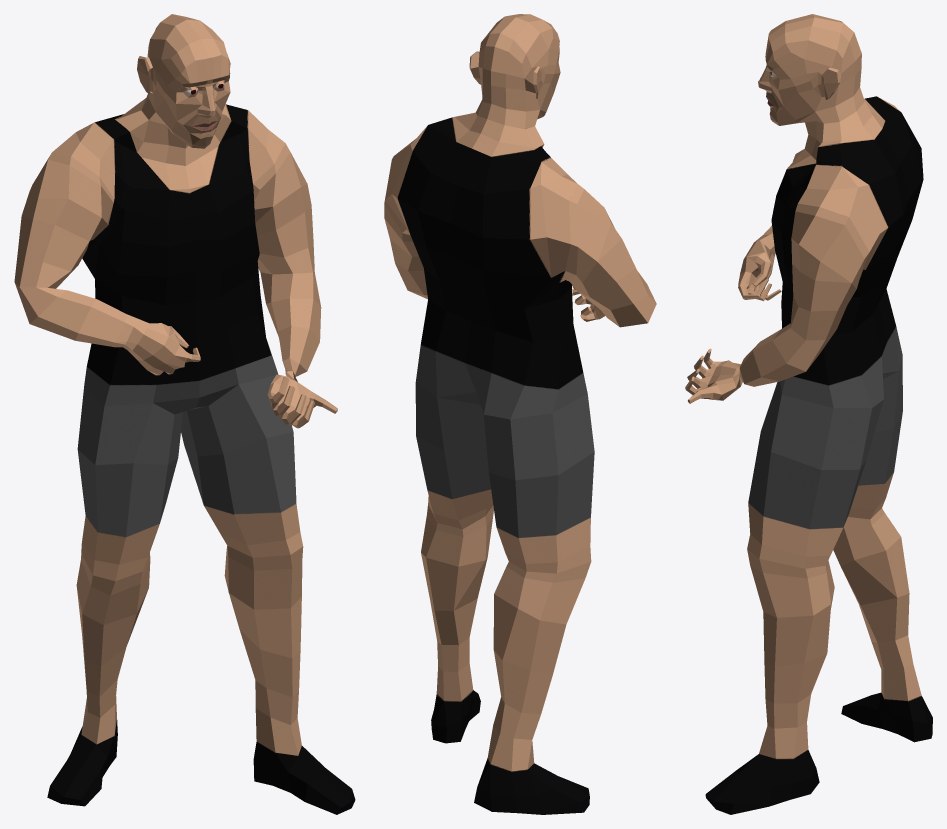
Rendered from PlayerIdle(24).obj.
3 renders of one model, left to right at view 1: azimuth 30°, elevation 25°; view 2: azimuth 150°, elevation 25°; view 3: azimuth 270°, elevation 25°, orthographic. The views are drawn at different scales.
Visible parts, largest first — view 1: Plane002; view 2: Plane002; view 3: Plane002.
Part boxes in pixels (x1,y1,x2,y2): Plane002: (14,14,355,814); Plane002: (384,14,656,814); Plane002: (685,14,932,814).
Size of the model in its own units: 676 by 1809 by 549.
